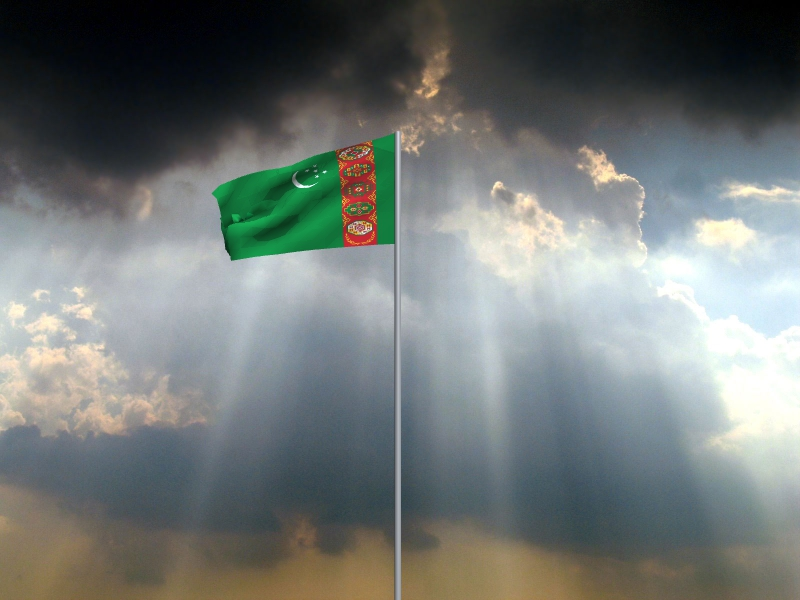tm: (211, 134, 395, 262)
